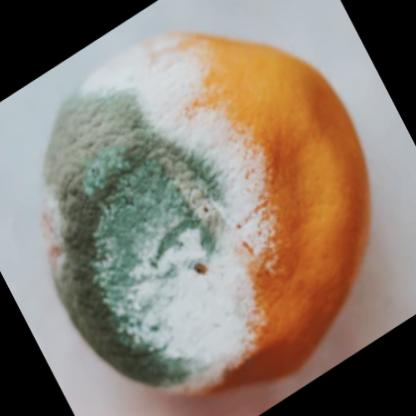rotten: (45, 30, 371, 397)
